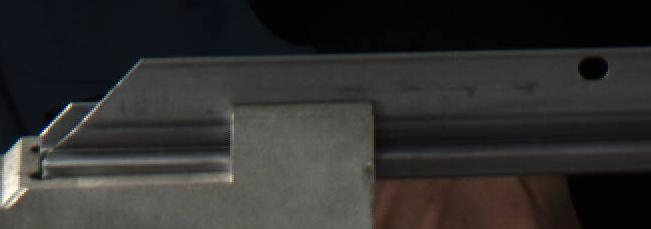cut: (32, 49, 226, 180)
holes: (576, 54, 611, 81)
